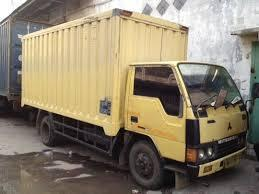truck: (107, 55, 259, 194)
